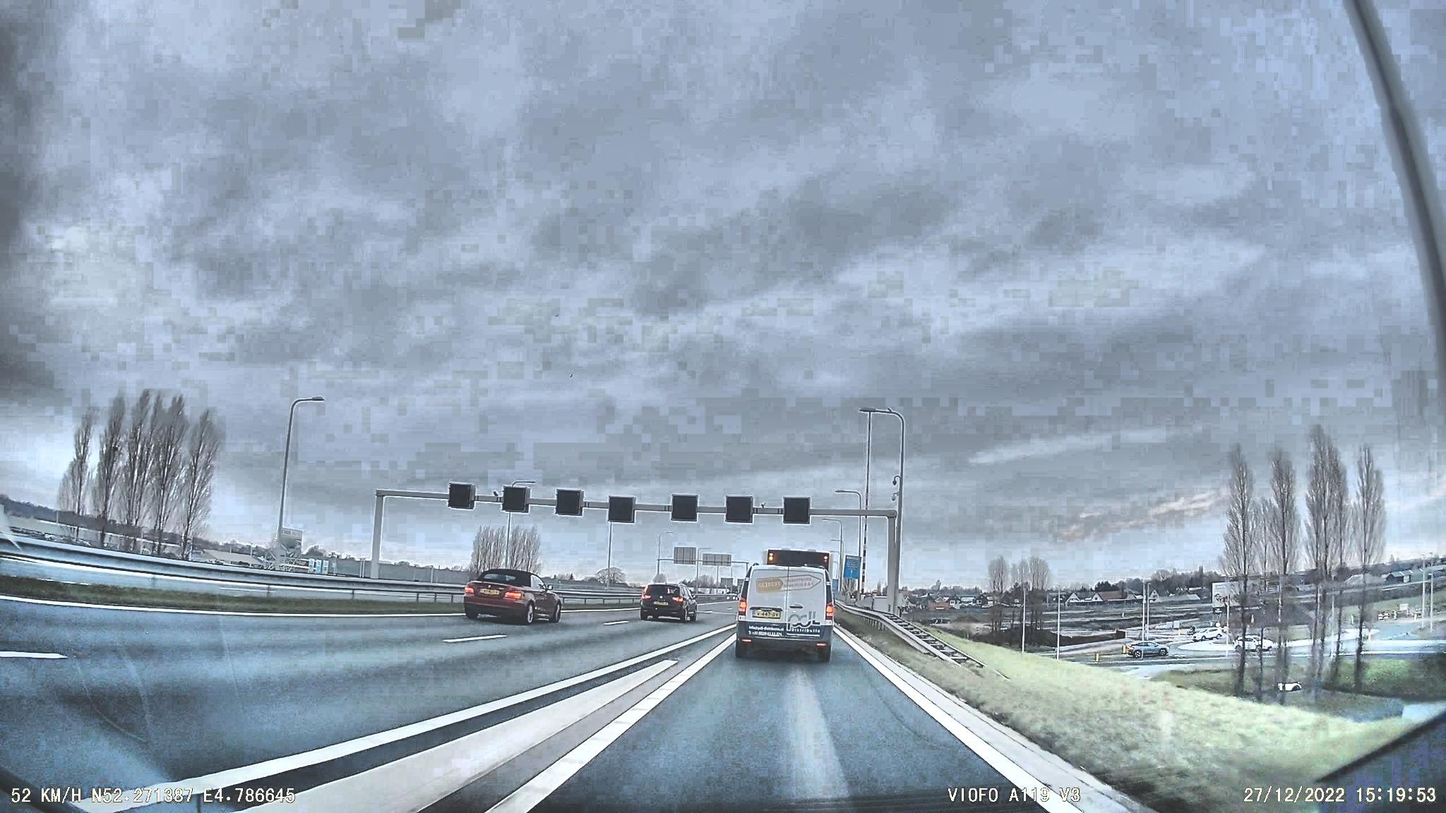Roads: (0, 598, 1155, 813)
